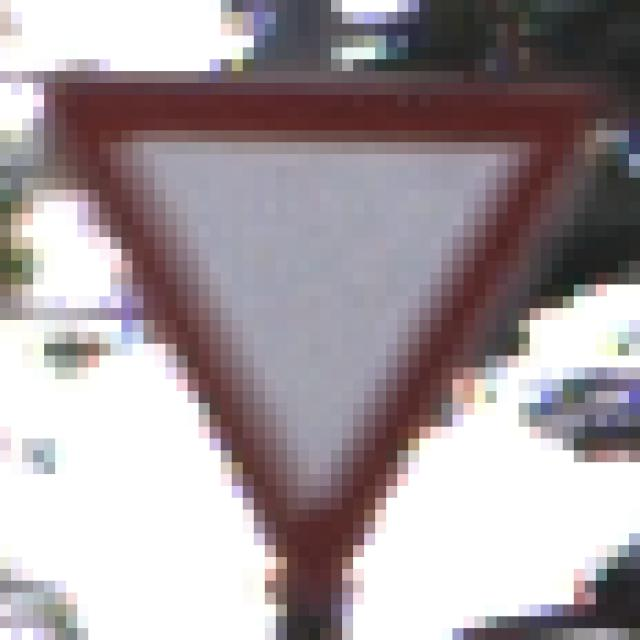Give Way: (56, 60, 586, 570)
